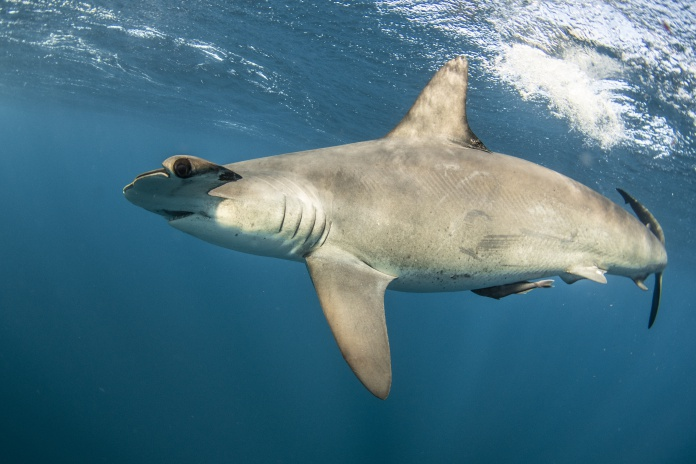Hammer: (125, 41, 680, 418)
